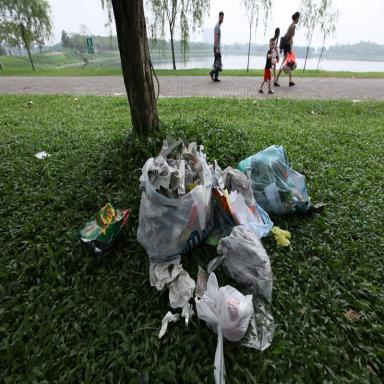plasticbag: (130, 133, 298, 330), (231, 144, 313, 222), (73, 200, 131, 250)
